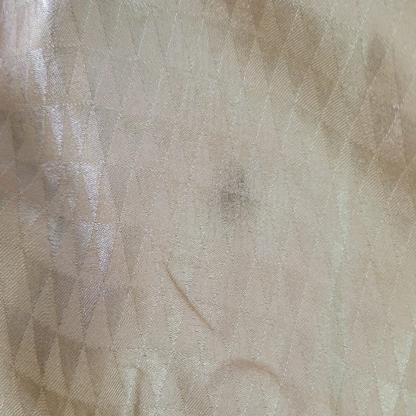spot: (216, 147, 259, 240)
